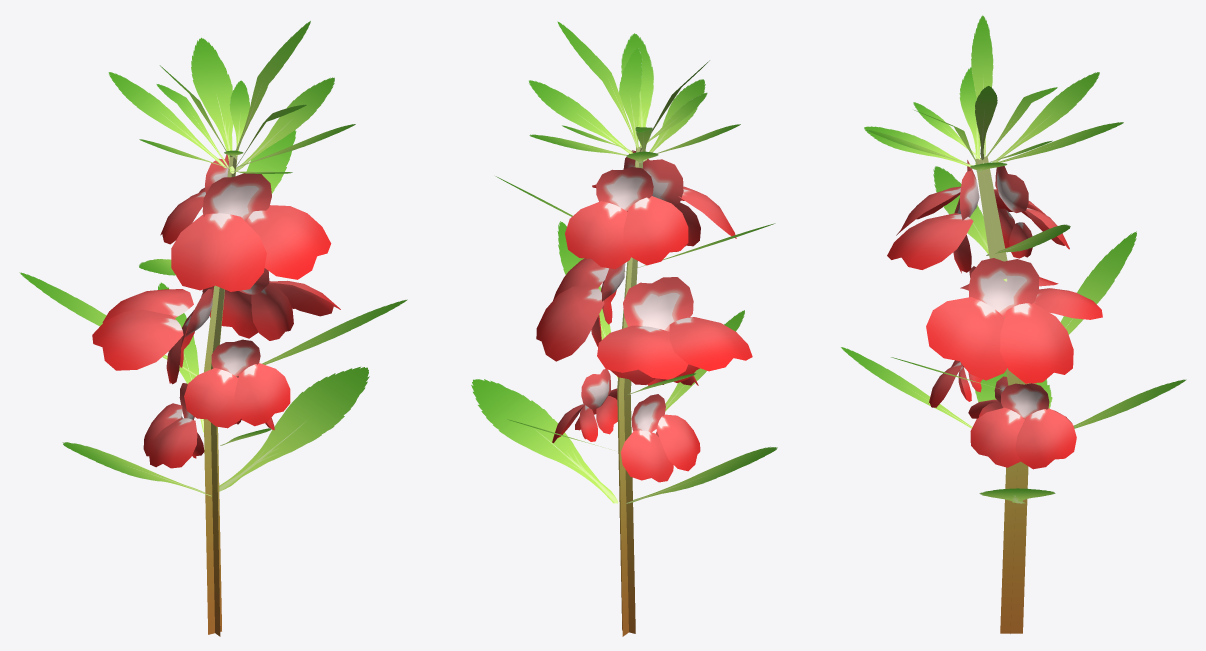
File: blasam_model.fbx
3 views of the same model, side by side, from view 1: azimuth 30°, elevation 25°; view 2: azimuth 150°, elevation 25°; view 3: azimuth 270°, elevation 25° (orthographic). The views are drawn at different scales.
Visible parts, largest first — view 1: blasam2; view 2: blasam2; view 3: blasam2.
Part boxes in pixels (box(x1,y1,x2,y2)): blasam2: box(19, 21, 407, 636); blasam2: box(471, 21, 777, 636); blasam2: box(841, 15, 1186, 633).
Bounding box in the file's own units: 7.71 × 14.26 × 7.82.
